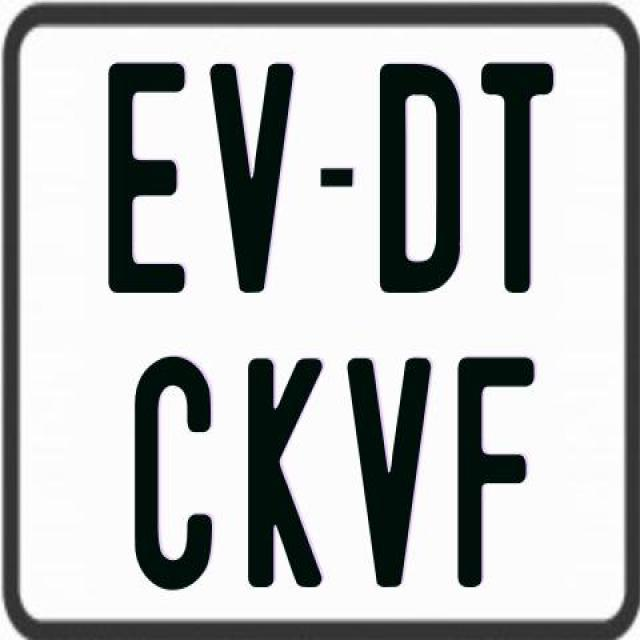C: (134, 355, 220, 595)
D: (376, 64, 456, 302)
E: (108, 58, 187, 290)
F: (457, 352, 543, 589)
K: (245, 354, 320, 586)
T: (477, 58, 555, 290)
V: (344, 357, 431, 592), (210, 59, 294, 291)
